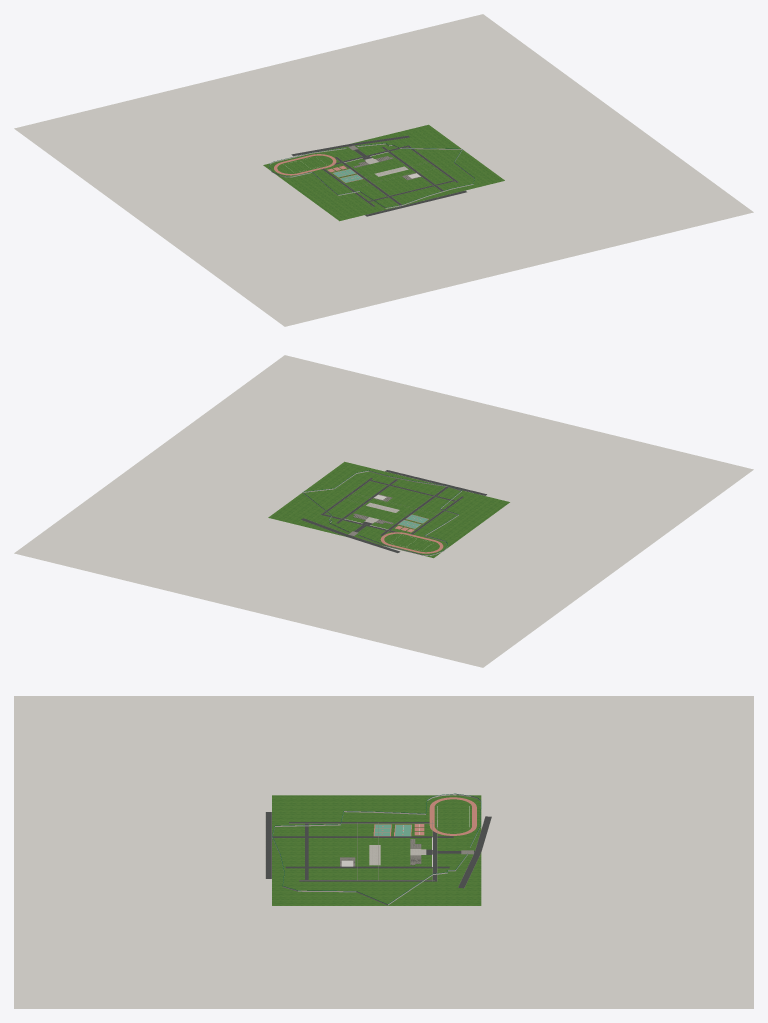
Rendered from terrain_campus.glb.
The picture shows the model from 3 angles, top to bottom: view 1: azimuth 30°, elevation 25°; view 2: azimuth 150°, elevation 25°; view 3: azimuth 270°, elevation 25°; orthographic projection. The views are drawn at different scales.
Visible parts, largest first — view 1: campus_terrain_unified; view 2: campus_terrain_unified; view 3: campus_terrain_unified.
Boxes of the visible parts, left/top/right/bottom form: campus_terrain_unified: left=14, top=14, right=753, bottom=326; campus_terrain_unified: left=14, top=355, right=753, bottom=667; campus_terrain_unified: left=14, top=696, right=753, bottom=1008.
Size of the model in its own units: 1400 by 3.14 by 1400.
14 materials, 7 textured.
